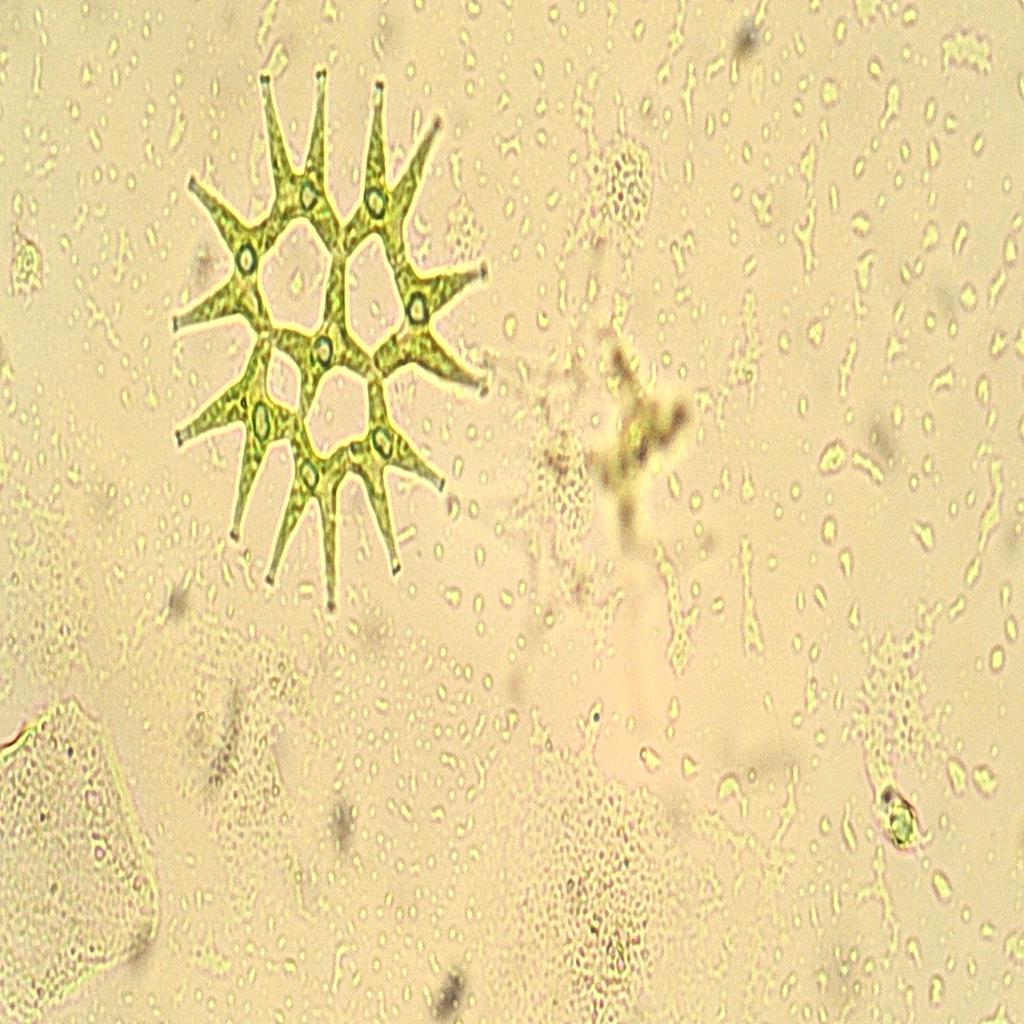Pediastrum_CTH: (154, 51, 504, 640)
